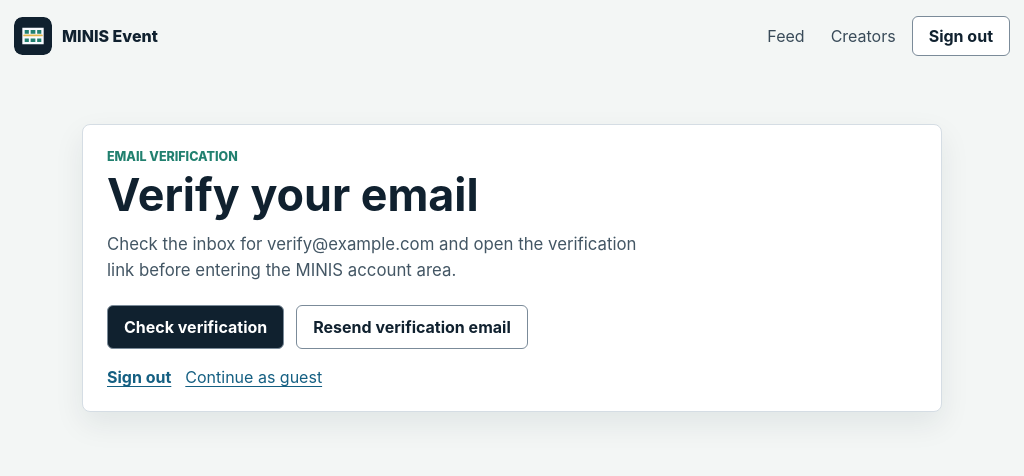
AppRoutes authentication routes › resends verification email with a cooldown
Click the button "Resend verification email": (412, 327) [296, 305, 528, 349]
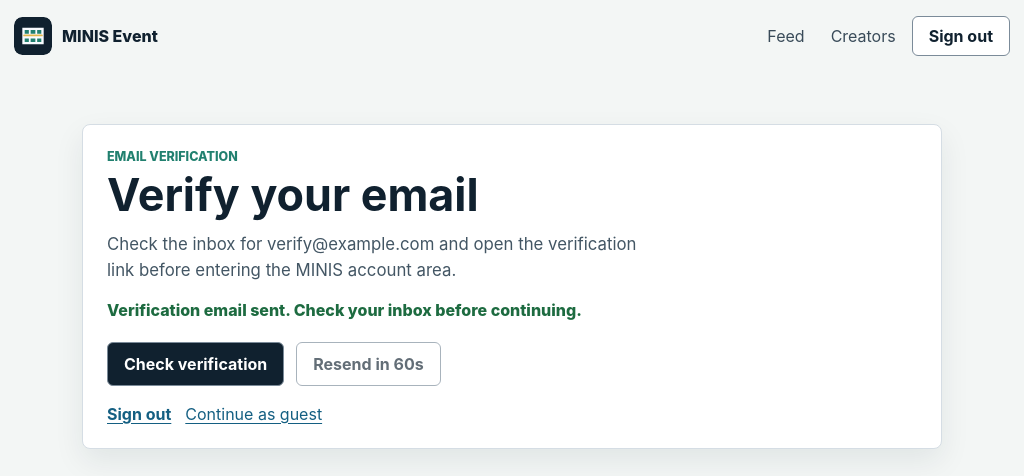
Now the text "Verification email sent. Check your inbox before continuing." is shown, box [107, 300, 582, 320]
Now the button "Resend in 60s" is disabled, box [296, 342, 441, 386]
